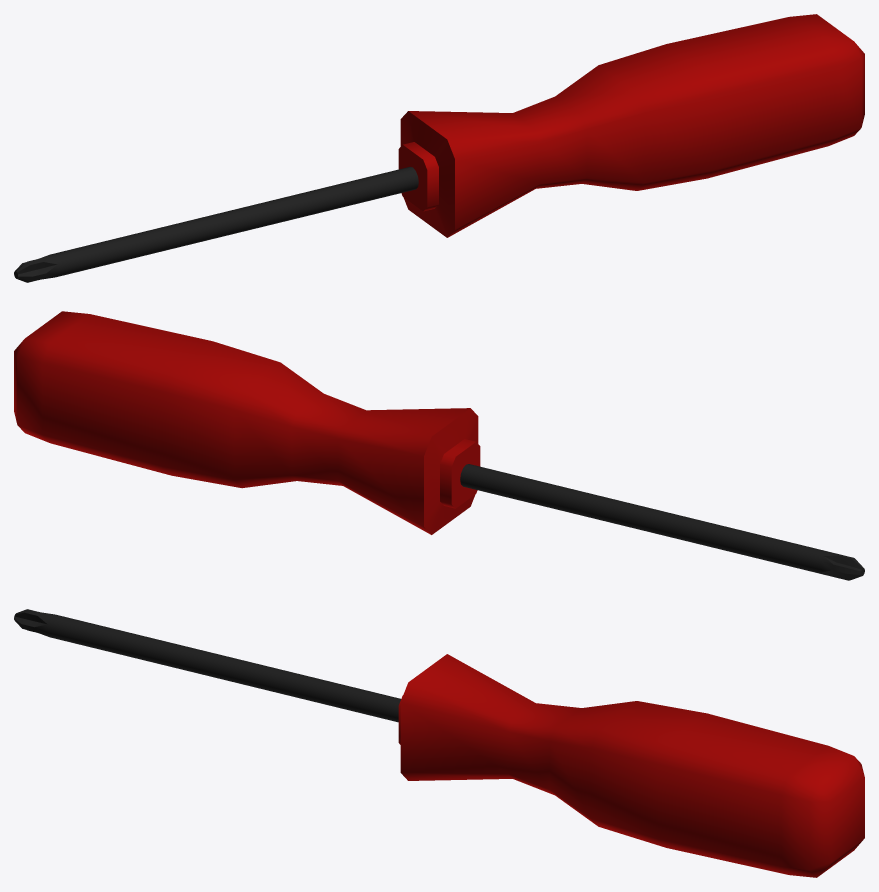
File: tournevis.obj
The picture shows the model from 3 angles, top to bottom: view 1: azimuth 30°, elevation 25°; view 2: azimuth 150°, elevation 25°; view 3: azimuth 330°, elevation 25°; orthographic projection.
Visible parts, largest first — view 1: tournevis_Cube; view 2: tournevis_Cube; view 3: tournevis_Cube.
Boxes of the visible parts, <box> form: tournevis_Cube: <box>14,14,864,282</box>; tournevis_Cube: <box>14,311,864,580</box>; tournevis_Cube: <box>14,609,864,877</box>.
Size of the model in its own units: 25.52 by 3.06 by 3.06.
